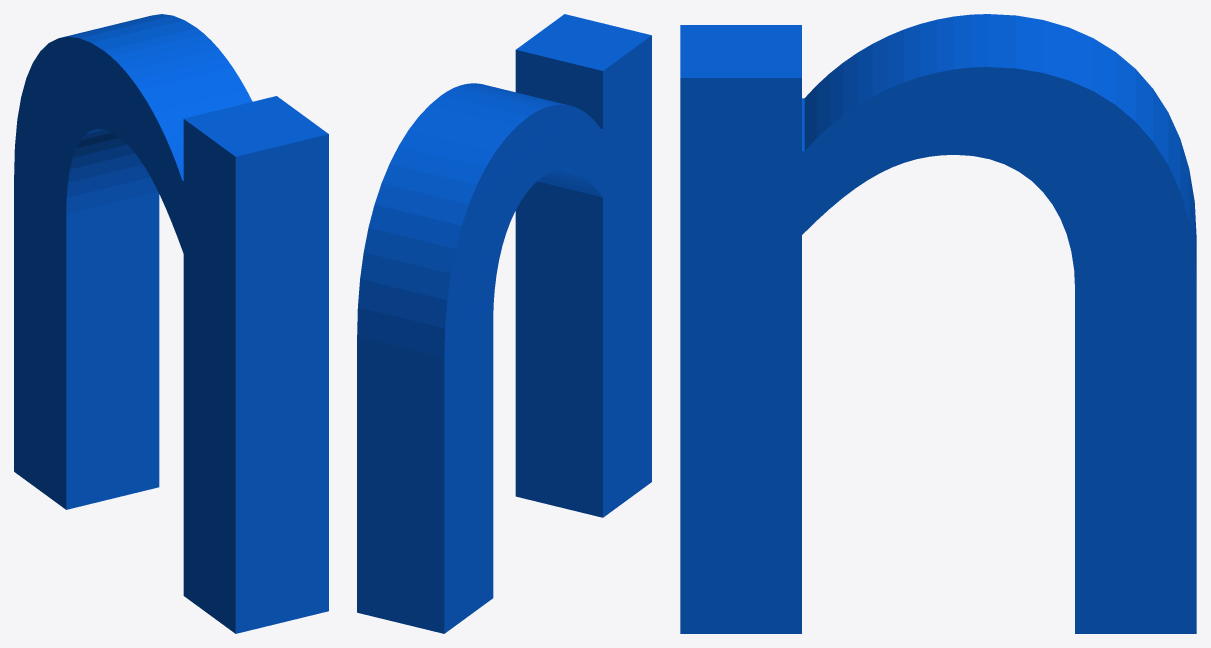
Rendered from letter(n).fbx.
3 renders of one model, left to right at view 1: azimuth 30°, elevation 25°; view 2: azimuth 150°, elevation 25°; view 3: azimuth 270°, elevation 25°, orthographic. The views are drawn at different scales.
Visible parts, largest first — view 1: Text; view 2: Text; view 3: Text.
Part boxes in pixels (x1,y1,x2,y2): Text: (14,14,328,633); Text: (357,14,651,633); Text: (680,14,1196,633).
Size of the model in its own units: 9.18 by 45.8 by 37.8.
